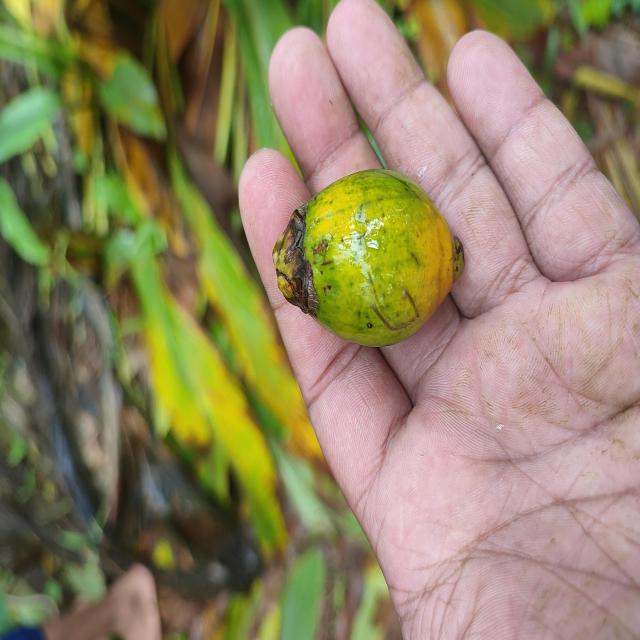damaged: (279, 169, 463, 350)
